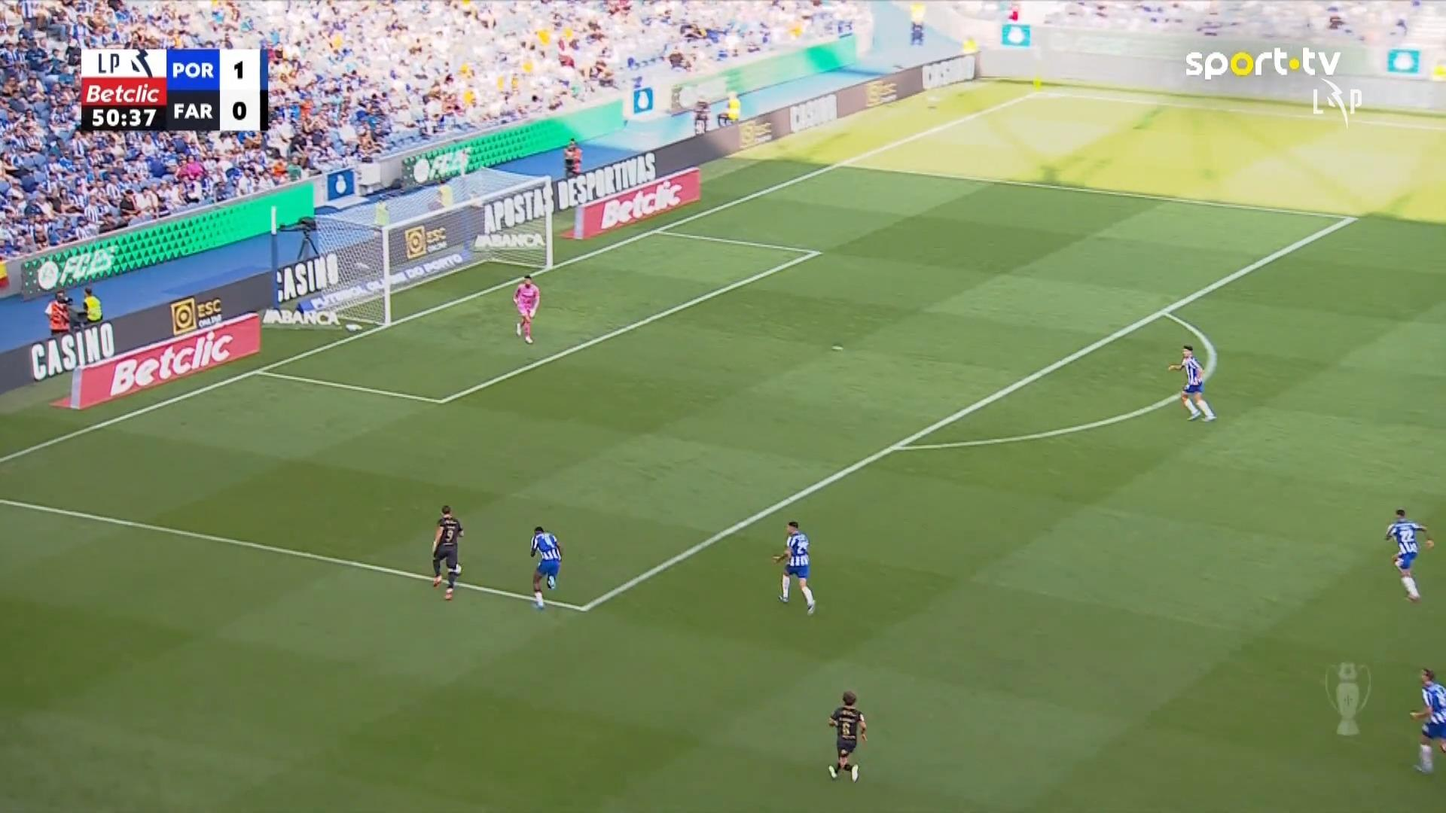goalkeeper: (511, 274, 540, 344)
player: (1383, 507, 1434, 601), (771, 519, 816, 615), (1167, 344, 1217, 422), (1408, 666, 1444, 774), (826, 690, 867, 781), (430, 504, 464, 600), (528, 525, 562, 610)
